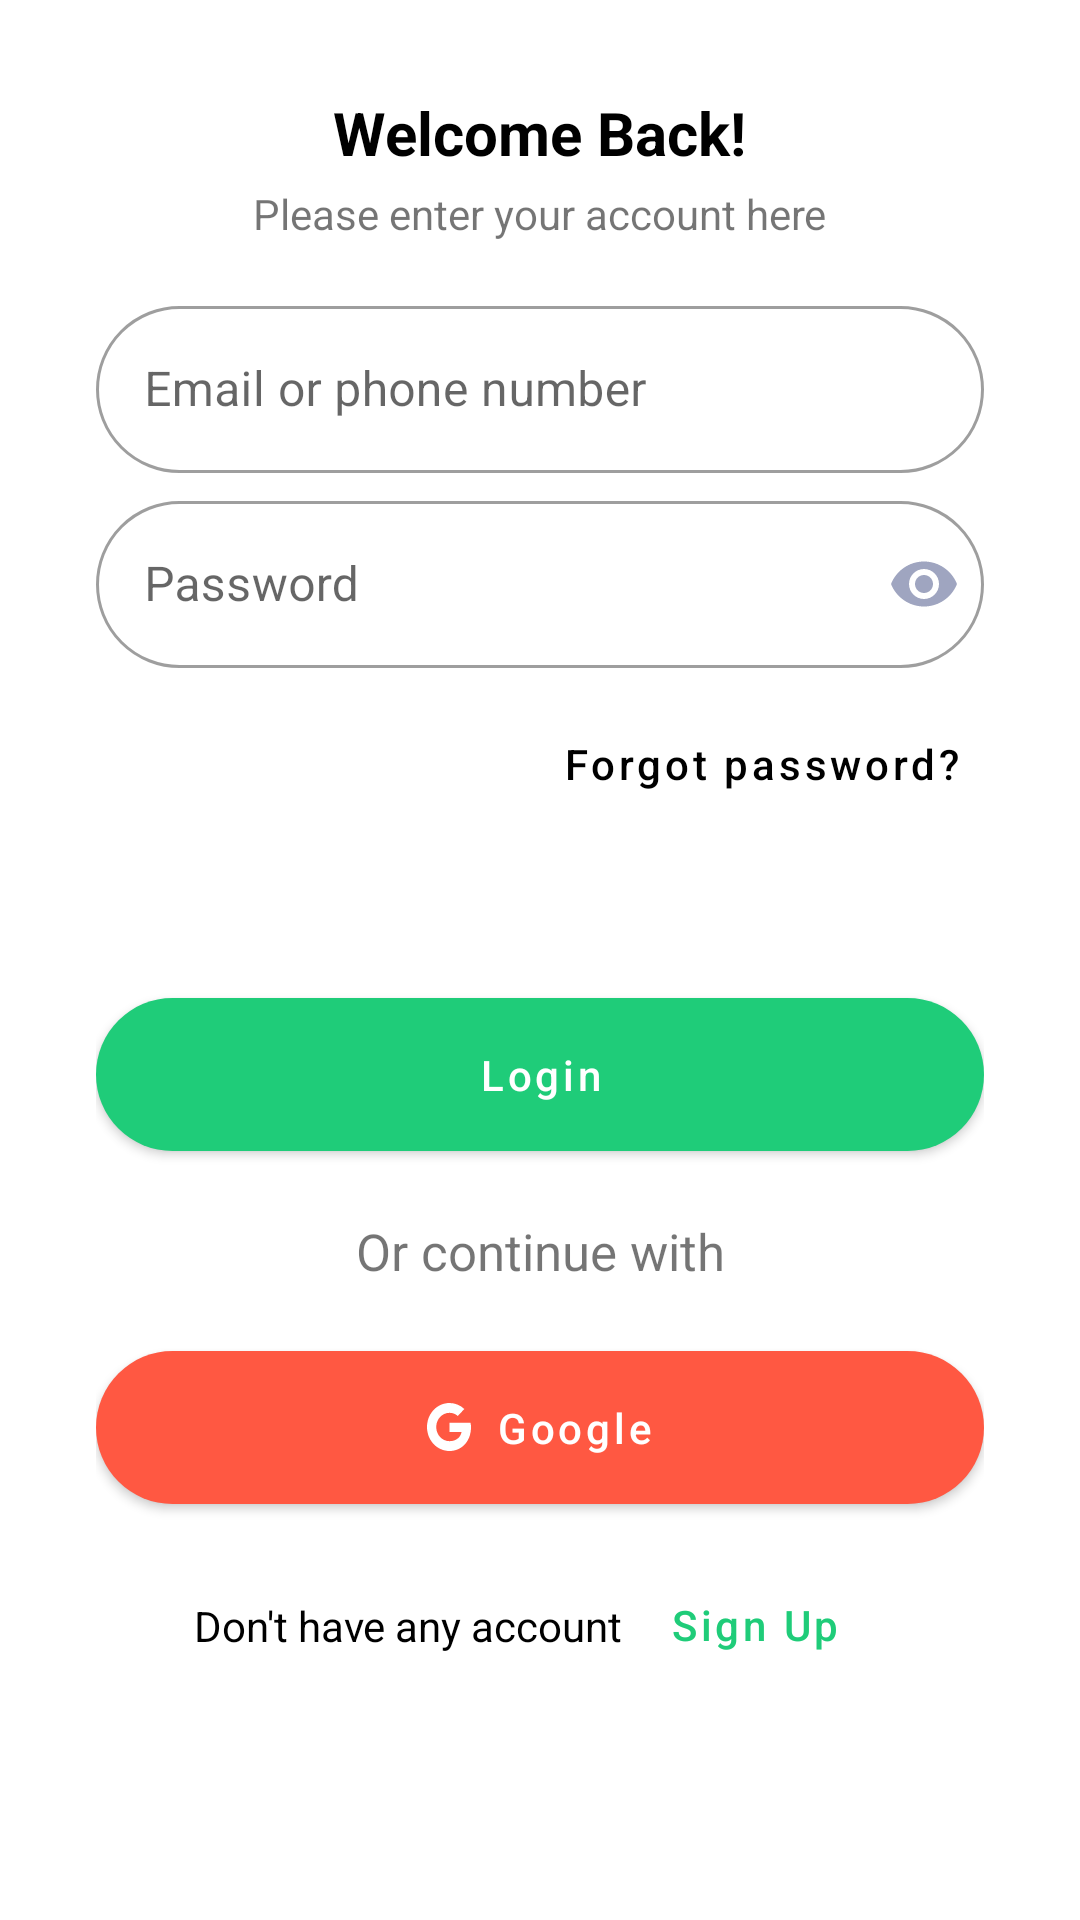

Named icons in this screenshot (1080px x 1920px) and their bounding boxes, (x1,y1,x2,y2):
eye: (891,561,957,607)
